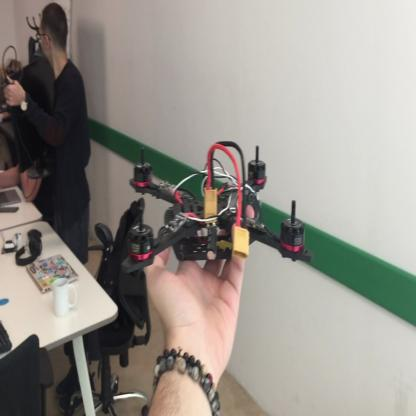drone: (115, 129, 316, 276)
